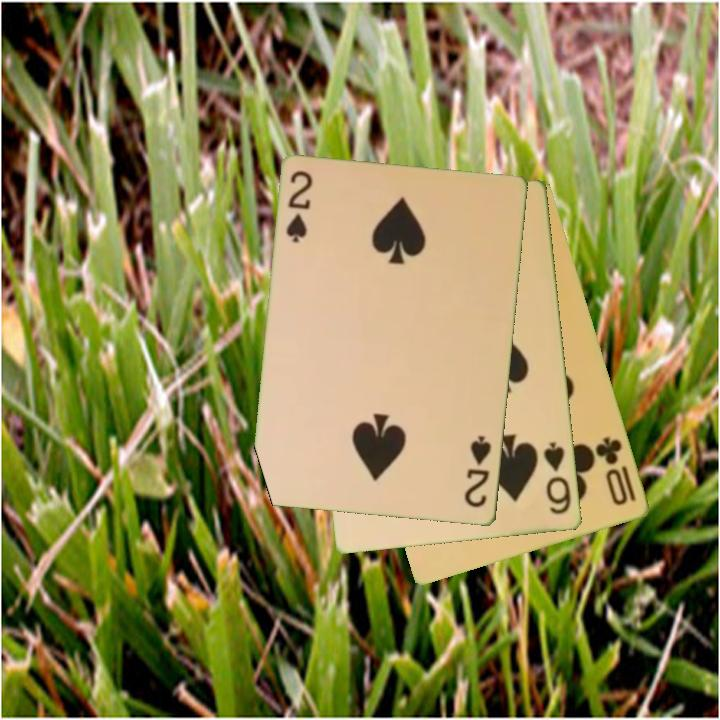10c: (592, 433, 639, 509)
2s: (461, 432, 495, 511), (283, 167, 316, 246)
6s: (540, 439, 575, 518)
